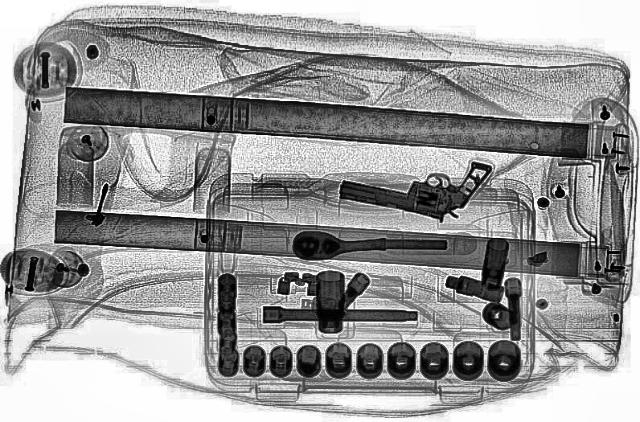Gun: (328, 138, 496, 226)
